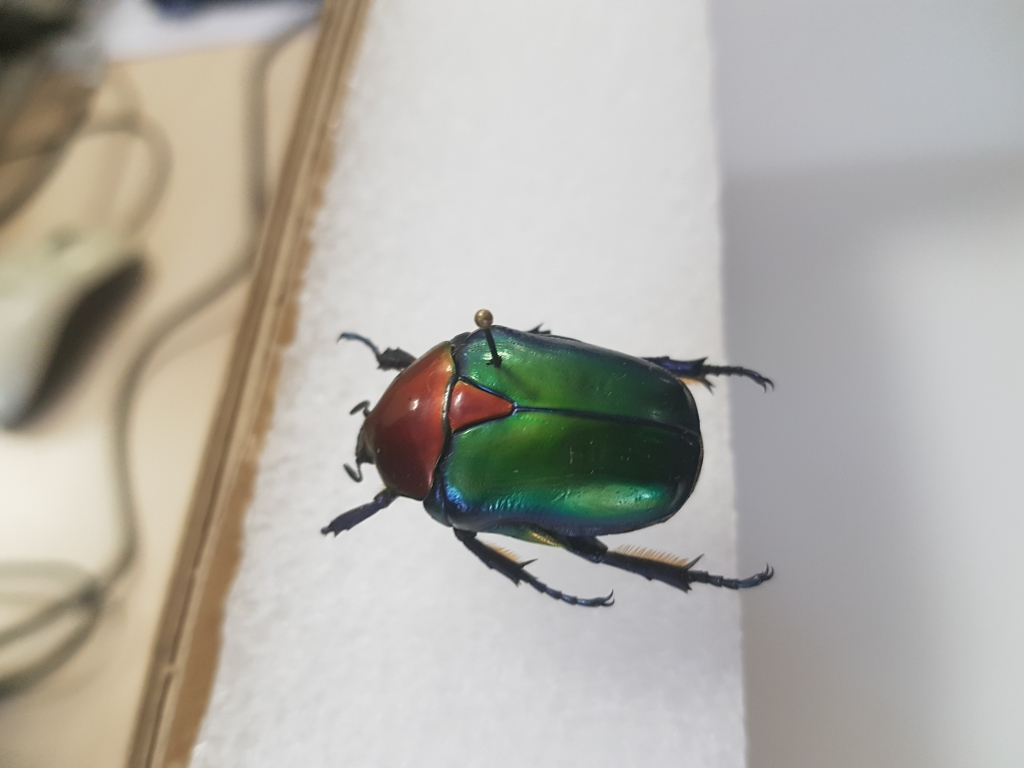Protaetia_speciosa_jousseliniw: (312, 313, 788, 613)
